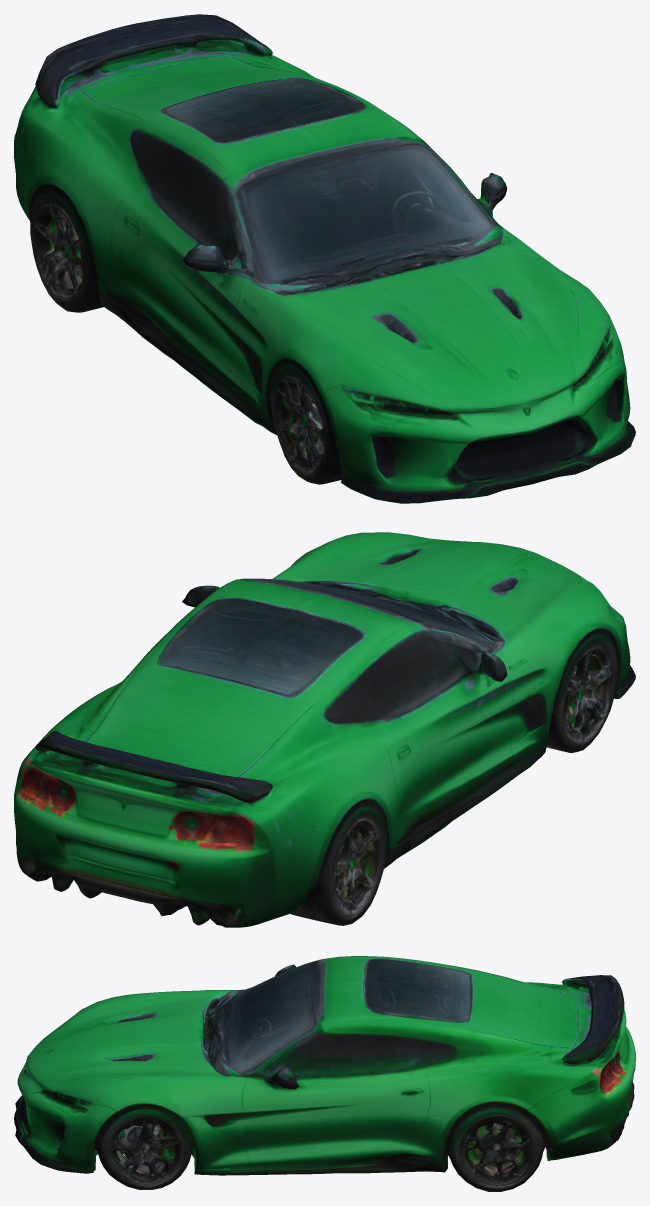
The model's file is dk-meshy-green-sport.glb.
3 renders of one model, top to bottom at view 1: azimuth 30°, elevation 25°; view 2: azimuth 150°, elevation 25°; view 3: azimuth 270°, elevation 25°, orthographic. The views are drawn at different scales.
Visible parts, largest first — view 1: DrivingKlass_SportsCar_Green; view 2: DrivingKlass_SportsCar_Green; view 3: DrivingKlass_SportsCar_Green.
Boxes of the visible parts, x1,y1,x2,y2 form: DrivingKlass_SportsCar_Green: (14, 14, 635, 503); DrivingKlass_SportsCar_Green: (14, 532, 635, 927); DrivingKlass_SportsCar_Green: (14, 956, 635, 1191).
Size of the model in its own units: 0.8767 by 0.5584 by 1.99.
Materials: 1 (1 with a texture image).
